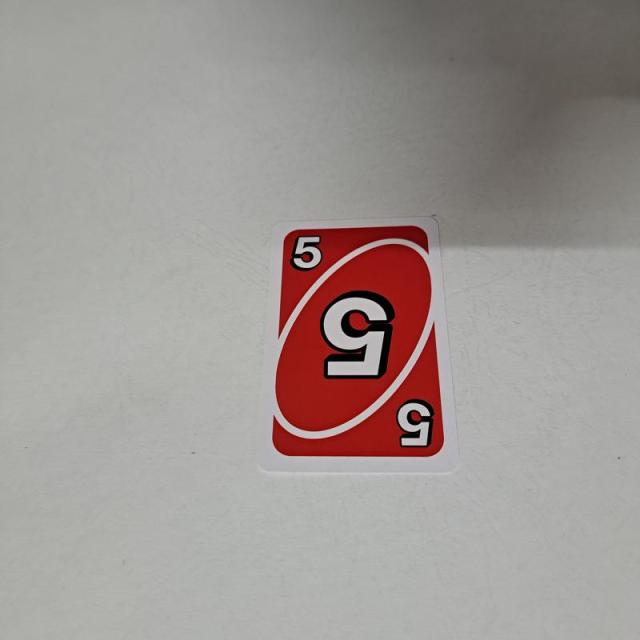Number_5: (291, 231, 324, 277)
Red_Card: (267, 220, 454, 462)
